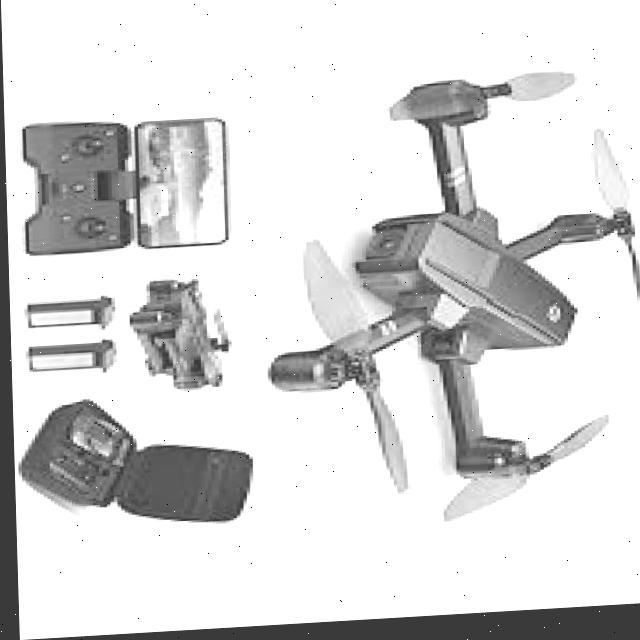drone: (258, 46, 640, 537)
